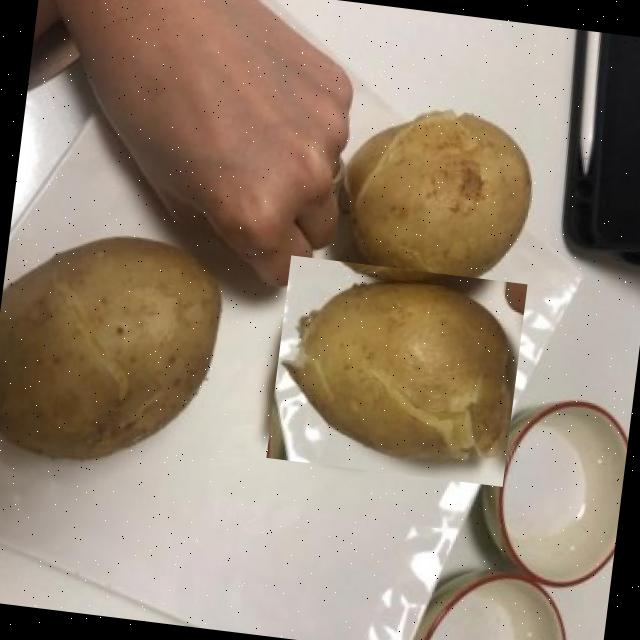Potato: (0, 217, 233, 482), (265, 255, 526, 486), (320, 84, 552, 310)
